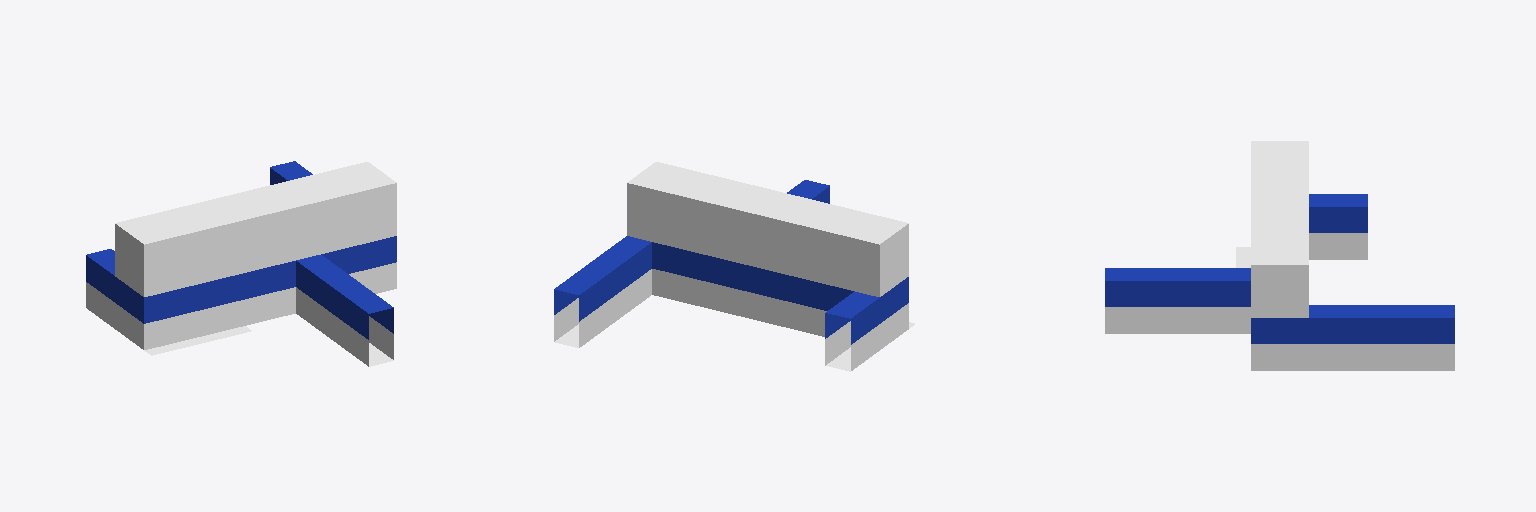
The model's file is hallway-blue1.obj.
3 views of the same model, side by side, from view 1: azimuth 30°, elevation 25°; view 2: azimuth 150°, elevation 25°; view 3: azimuth 270°, elevation 25° (orthographic).
Visible parts, largest first — view 1: hallway-blue1; view 2: hallway-blue1; view 3: hallway-blue1.
Part boxes in pixels (x1,y1,x2,y2): hallway-blue1: (86, 161, 396, 366); hallway-blue1: (554, 162, 914, 371); hallway-blue1: (1105, 141, 1454, 370).
Bounding box in the file's own units: 40 × 16 × 48.